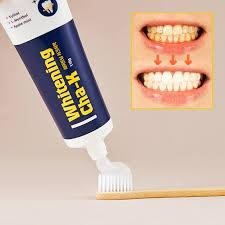toothpaste: (0, 1, 127, 156)
